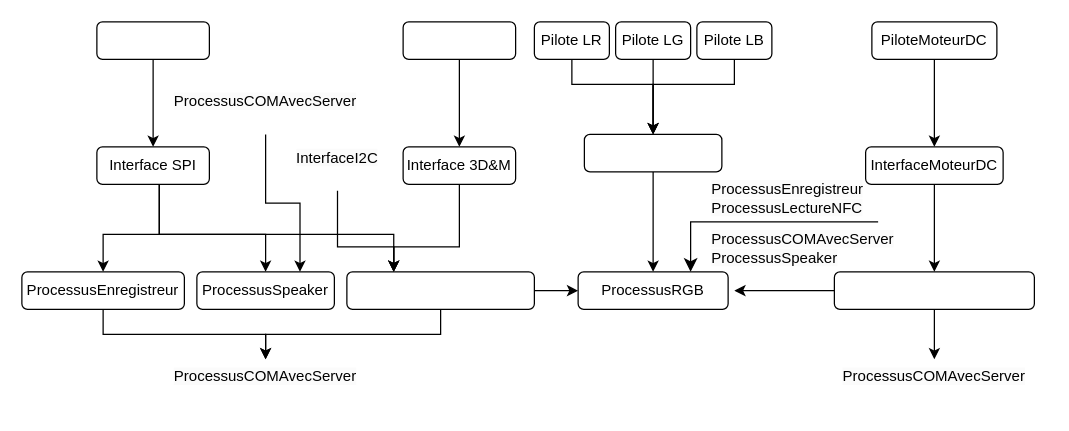
This 1069x431 diagram has some shape labels left out. Here are the shapes that lost their labels. From the top down, the centre of each, then its label:
At (152,40): "Pilote SPI".
At (459,40): "Pilote 3D&M".
At (652,152): "InterfaceRGB".
At (440,290): "Processus3DSensor&Mag".
At (933,290): "ProcessusBarrerDebarrer".
